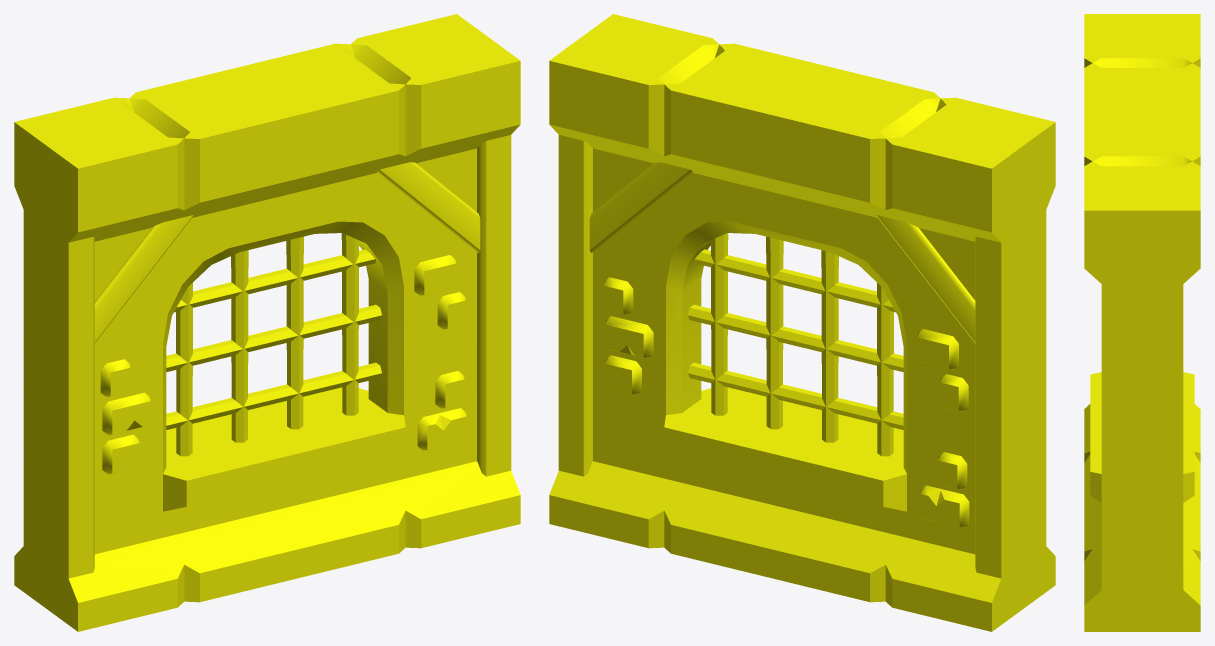
Rendered from kaykit-wall-archedwindow-gated-scaffold.glb.
The picture shows the model from 3 angles, left to right: view 1: azimuth 30°, elevation 25°; view 2: azimuth 150°, elevation 25°; view 3: azimuth 270°, elevation 25°; orthographic projection. The views are drawn at different scales.
Visible parts, largest first — view 1: wall_archedwindow_gated_scaffold; view 2: wall_archedwindow_gated_scaffold; view 3: wall_archedwindow_gated_scaffold.
Part boxes in pixels (box(x1,y1,x2,y2)): wall_archedwindow_gated_scaffold: box(14, 14, 520, 631); wall_archedwindow_gated_scaffold: box(549, 14, 1055, 631); wall_archedwindow_gated_scaffold: box(1084, 14, 1200, 631).
Size of the model in its own units: 4 by 4 by 1.
